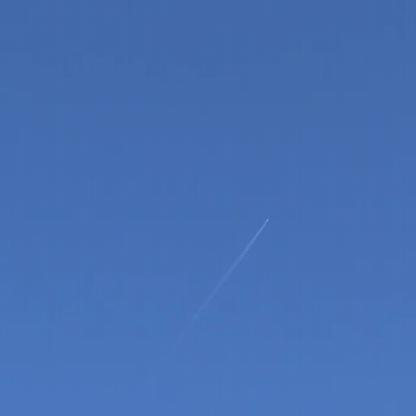CIV_Plane: (264, 214, 274, 228)
